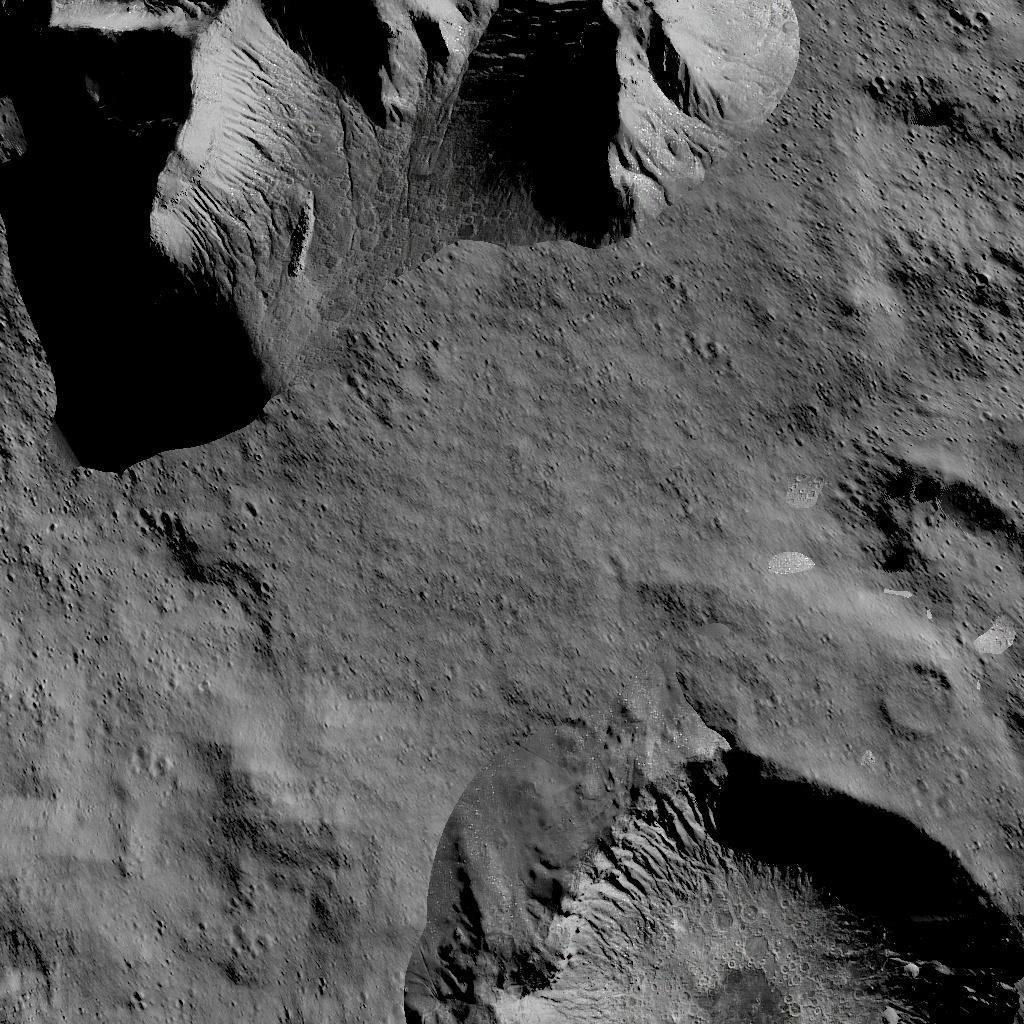Boulders: (0, 2, 809, 484)
Crater: (421, 694, 1024, 1024), (859, 446, 1024, 620), (0, 926, 59, 1024)
Plan surface: (5, 504, 403, 884), (426, 496, 836, 678), (851, 0, 1024, 405), (92, 918, 396, 1024)
